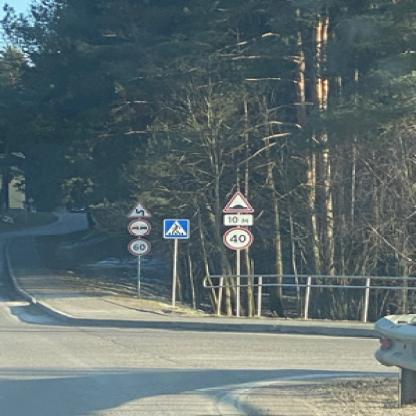Speed Limit 40: (225, 228, 254, 250)
Speed Limit 60: (128, 236, 152, 256)
